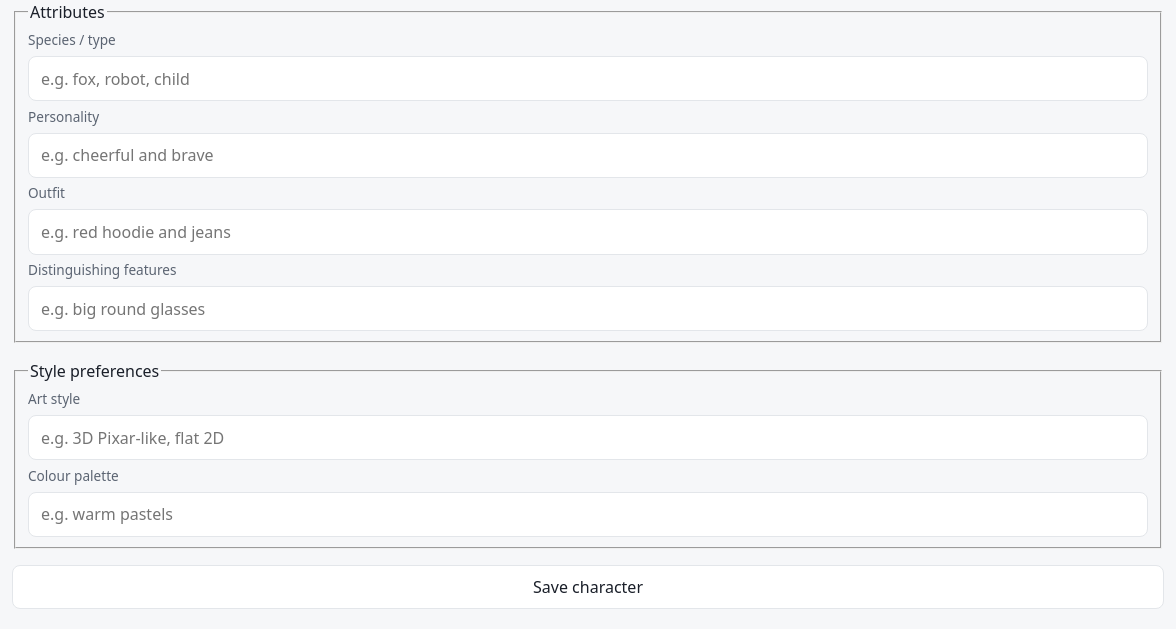
Scenario: CharacterSetupForm › shows a validation error when the name is empty
(page scrolled)
What coordinates should you click on to do the following:
click the button "Save character"
I would click on:
 (588, 587)
Its box is [12,565,1164,608].
(page scrolled)
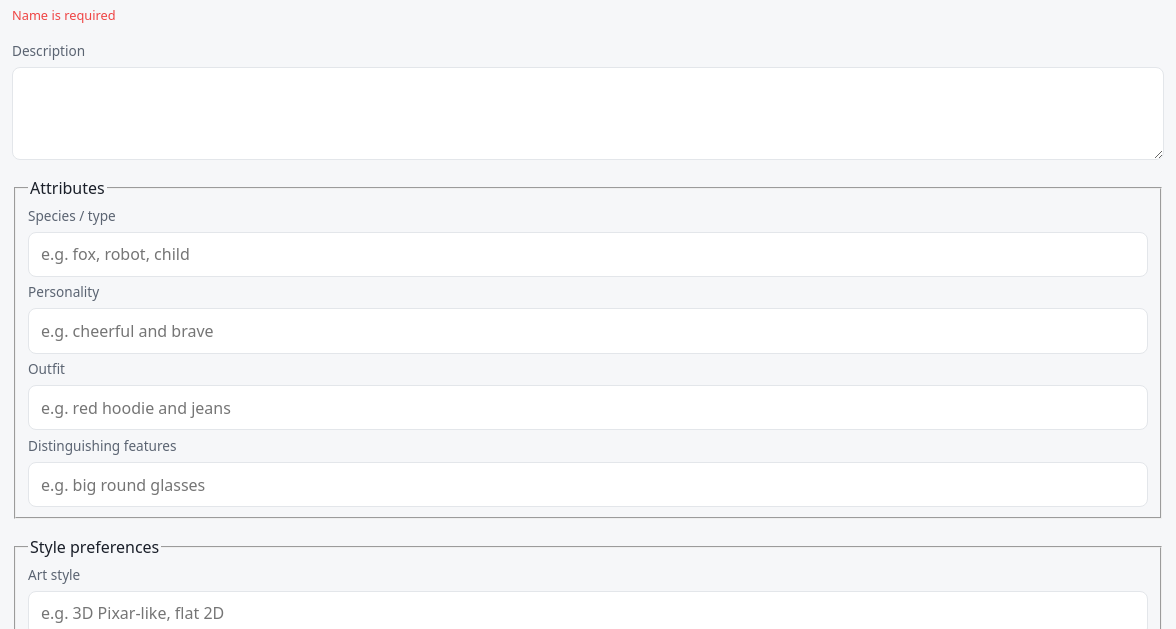
Expected: the text "Name is required" is shown, [12,6,116,24]
